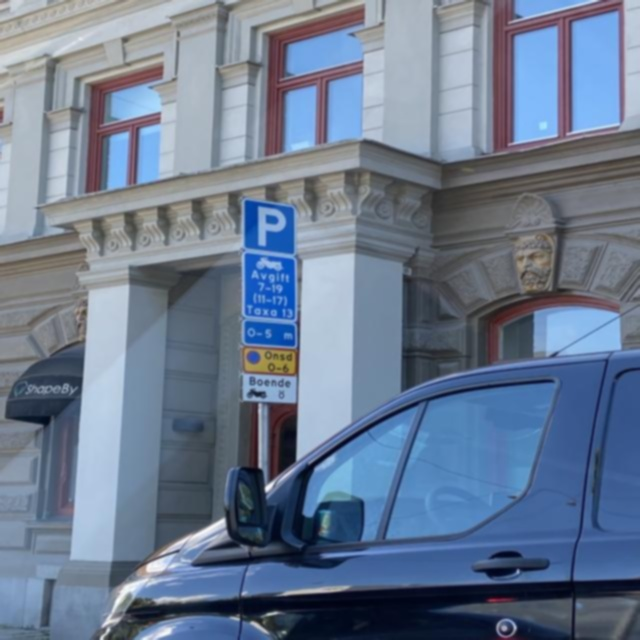avstignnigsplats: (242, 196, 298, 257)
